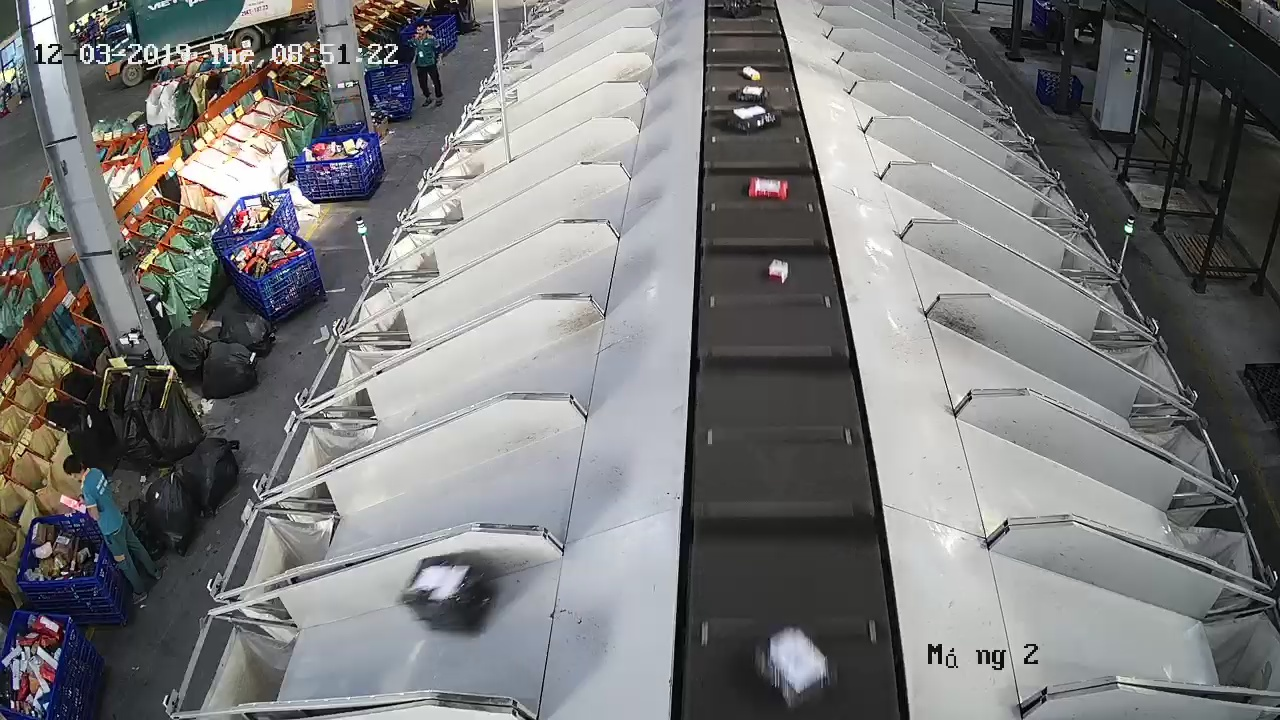parcel: (394, 555, 494, 634)
